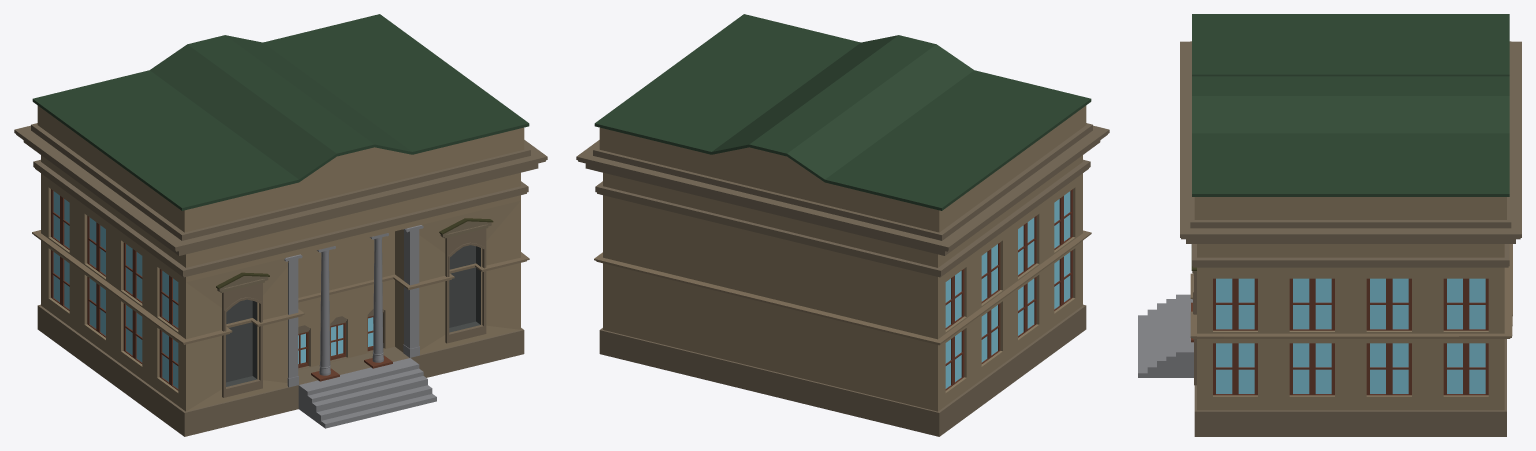
Rendered from SM_Museum_01_A.gltf.
The picture shows the model from 3 angles, left to right: view 1: azimuth 30°, elevation 25°; view 2: azimuth 150°, elevation 25°; view 3: azimuth 270°, elevation 25°; orthographic projection. The views are drawn at different scales.
Parts seen in each view (by area): view 1: SM_Museum_01_A; view 2: SM_Museum_01_A; view 3: SM_Museum_01_A.
Boxes of the visible parts, x1,y1,x2,y2 form: SM_Museum_01_A: [14, 14, 547, 436]; SM_Museum_01_A: [576, 14, 1109, 436]; SM_Museum_01_A: [1138, 14, 1521, 436].
Size of the model in its own units: 4.9 by 3.11 by 4.12.
